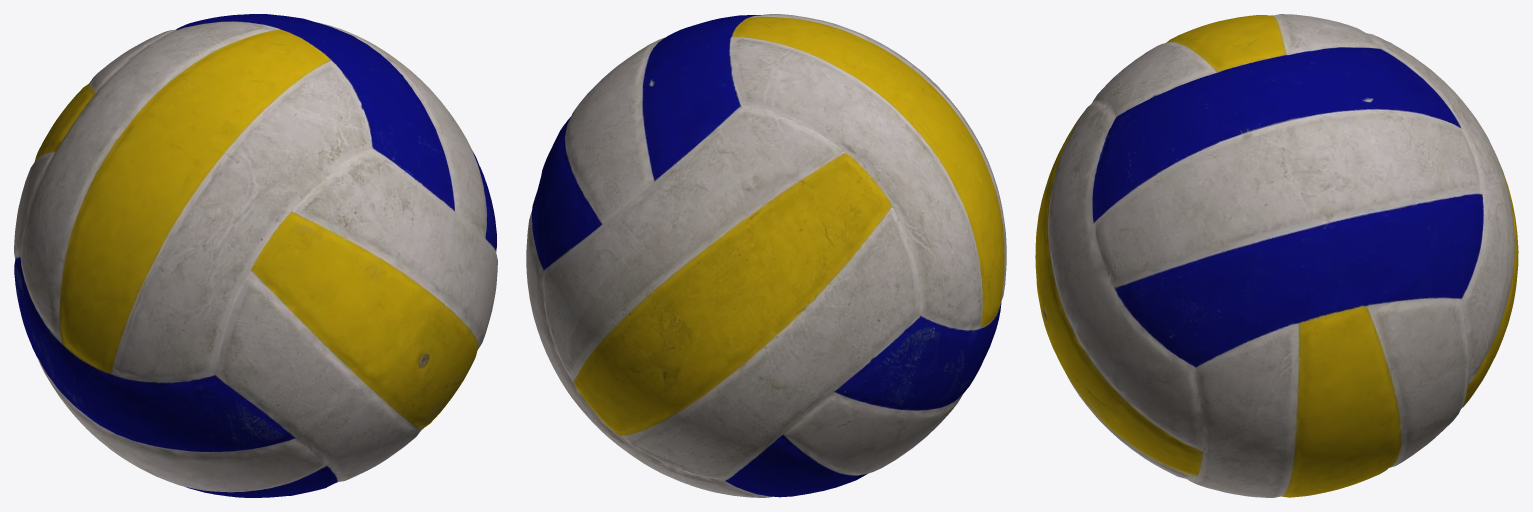
File: volleyball.glb
3 views of the same model, side by side, from view 1: azimuth 30°, elevation 25°; view 2: azimuth 150°, elevation 25°; view 3: azimuth 270°, elevation 25° (orthographic).
Visible parts, largest first — view 1: Volleyball; view 2: Volleyball; view 3: Volleyball.
Boxes of the visible parts, x1=… form: Volleyball: x1=14, y1=14, x2=497, y2=497; Volleyball: x1=526, y1=14, x2=1006, y2=497; Volleyball: x1=1035, y1=14, x2=1518, y2=497.
Bounding box in the file's own units: 0.2013 × 0.2021 × 0.2017.
Materials: 1 (1 with a texture image).
